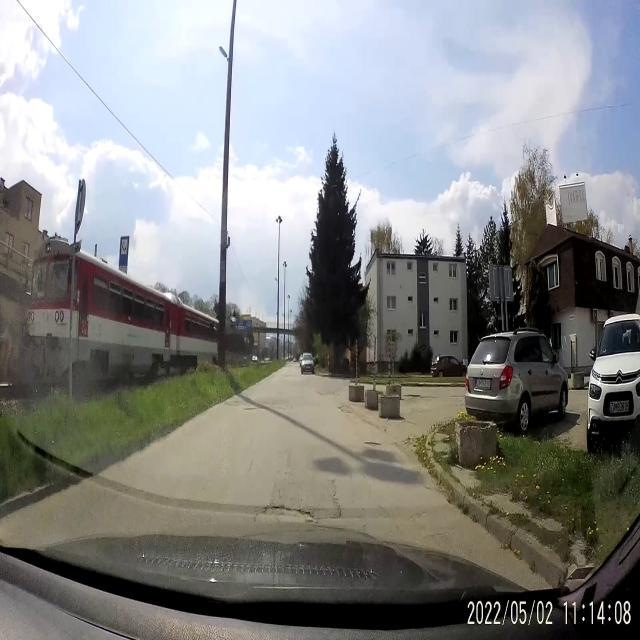Pothole: (256, 492, 338, 524), (363, 439, 383, 450), (338, 404, 356, 416)
